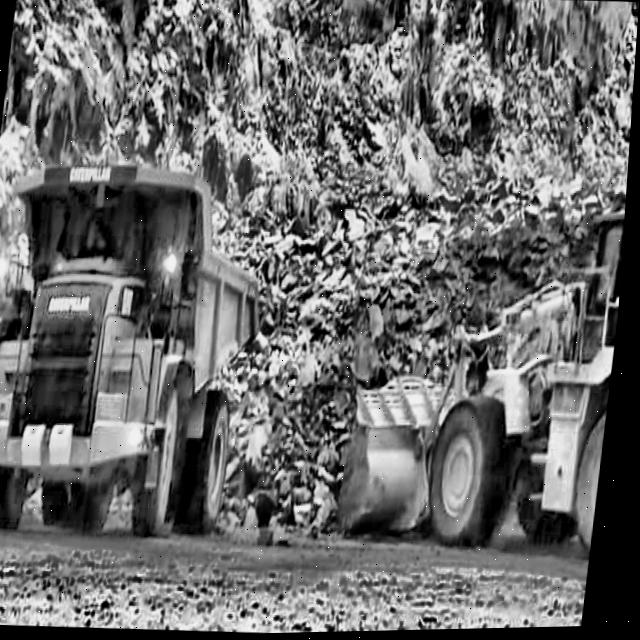buldozerpayloadergrader: (339, 195, 629, 572)
dump_truck: (0, 158, 284, 543)
